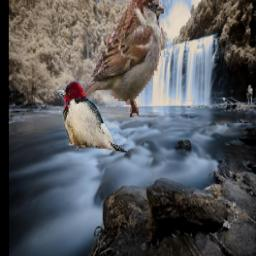Sparrow: (71, 0, 164, 117)
Woodpecker: (54, 82, 129, 154)
